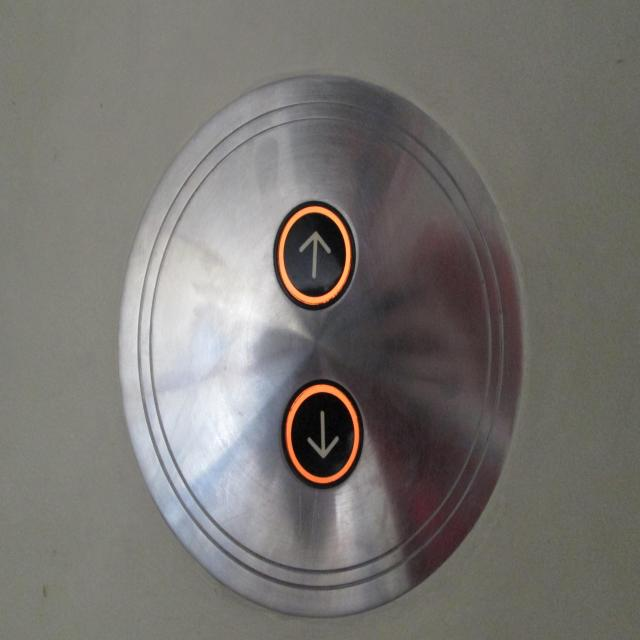down: (278, 376, 366, 489)
up: (270, 197, 359, 311)
